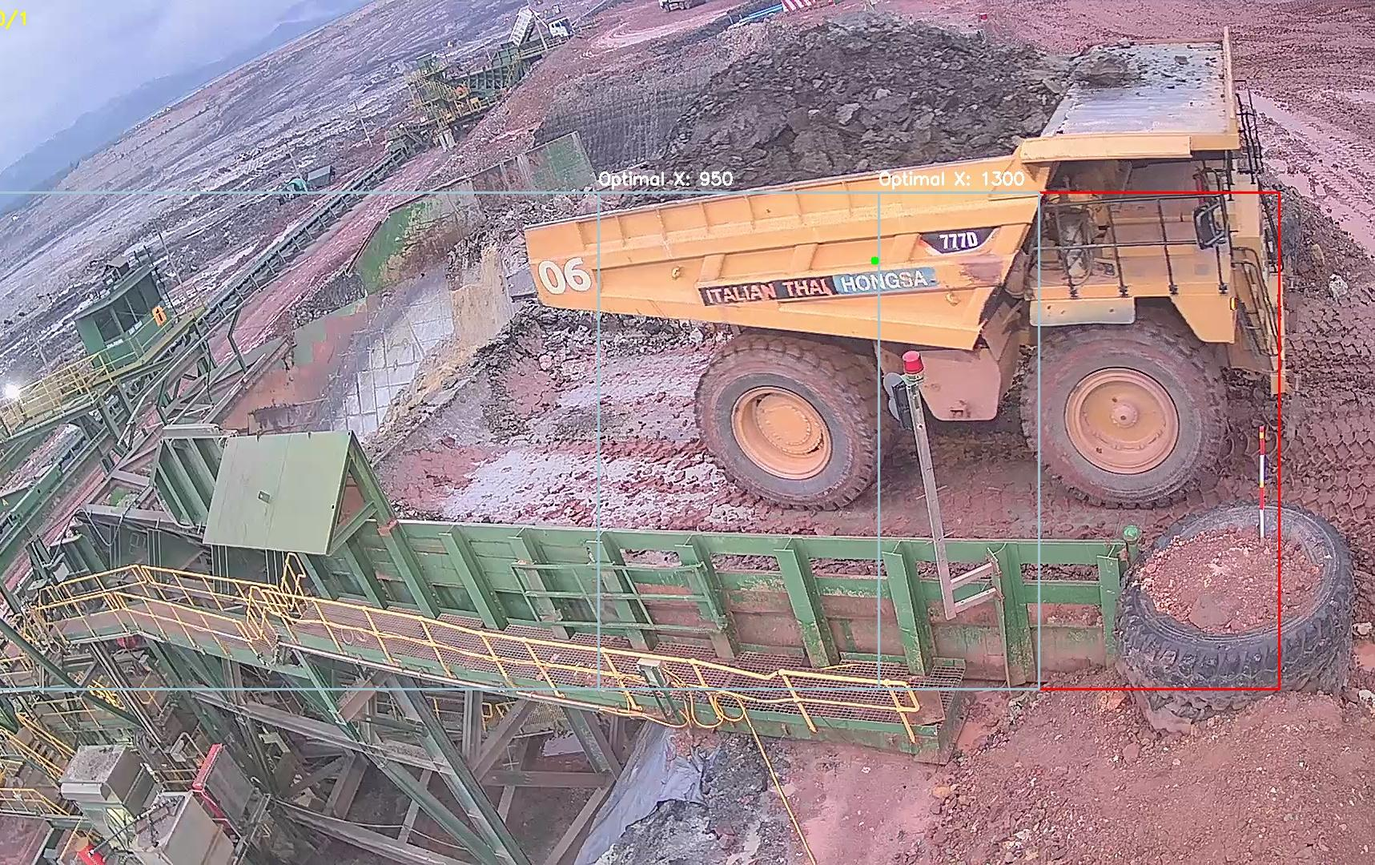company: (683, 260, 944, 309)
full_load: (675, 22, 1028, 162)
mining_truck: (503, 14, 1290, 511)
tail_number: (532, 248, 598, 302)
truck_size: (931, 223, 984, 253)
